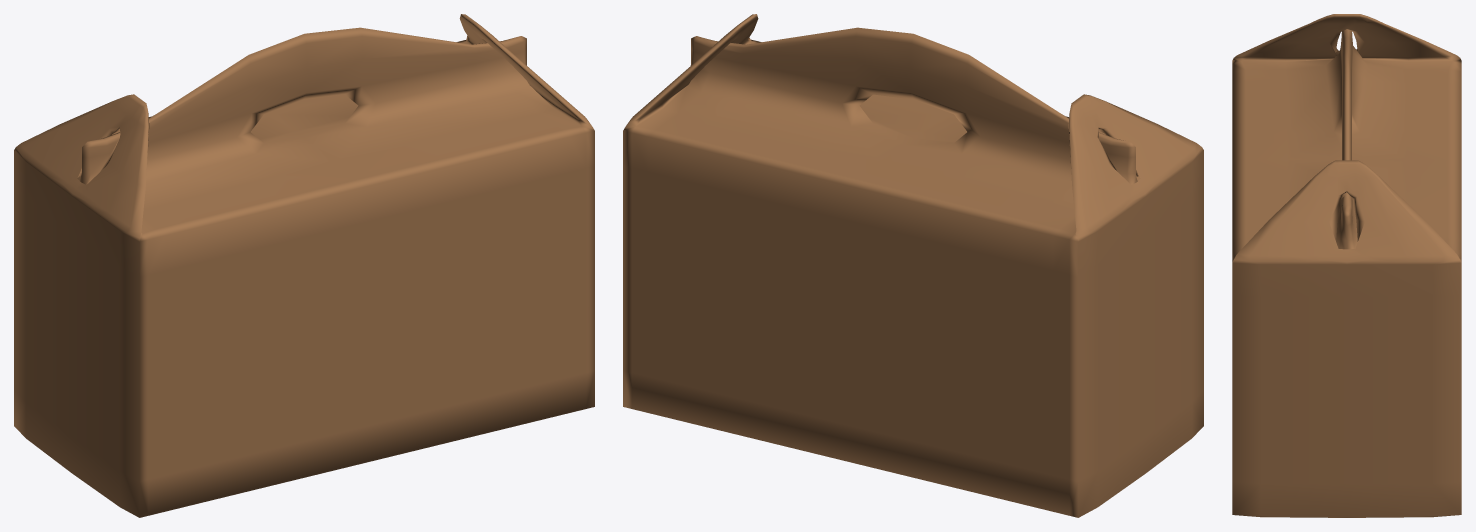
Rendered from corrugated box.fbx.
The picture shows the model from 3 angles, left to right: view 1: azimuth 30°, elevation 25°; view 2: azimuth 150°, elevation 25°; view 3: azimuth 270°, elevation 25°; orthographic projection. The views are drawn at different scales.
Parts seen in each view (by area): view 1: pCube3; view 2: pCube3; view 3: pCube3.
Boxes of the visible parts, bbox=[...] form: pCube3: bbox=[14, 14, 594, 517]; pCube3: bbox=[623, 14, 1203, 517]; pCube3: bbox=[1232, 14, 1461, 517].
Bounding box in the file's own units: 4.3 × 3.41 × 2.01.
1 material, 1 textured.
